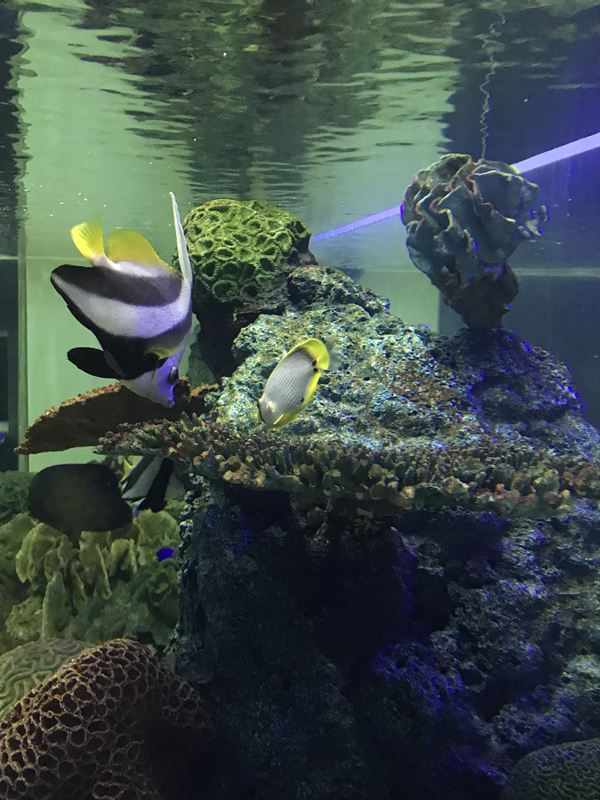Black-backed butterflyfish: (244, 329, 355, 441)
